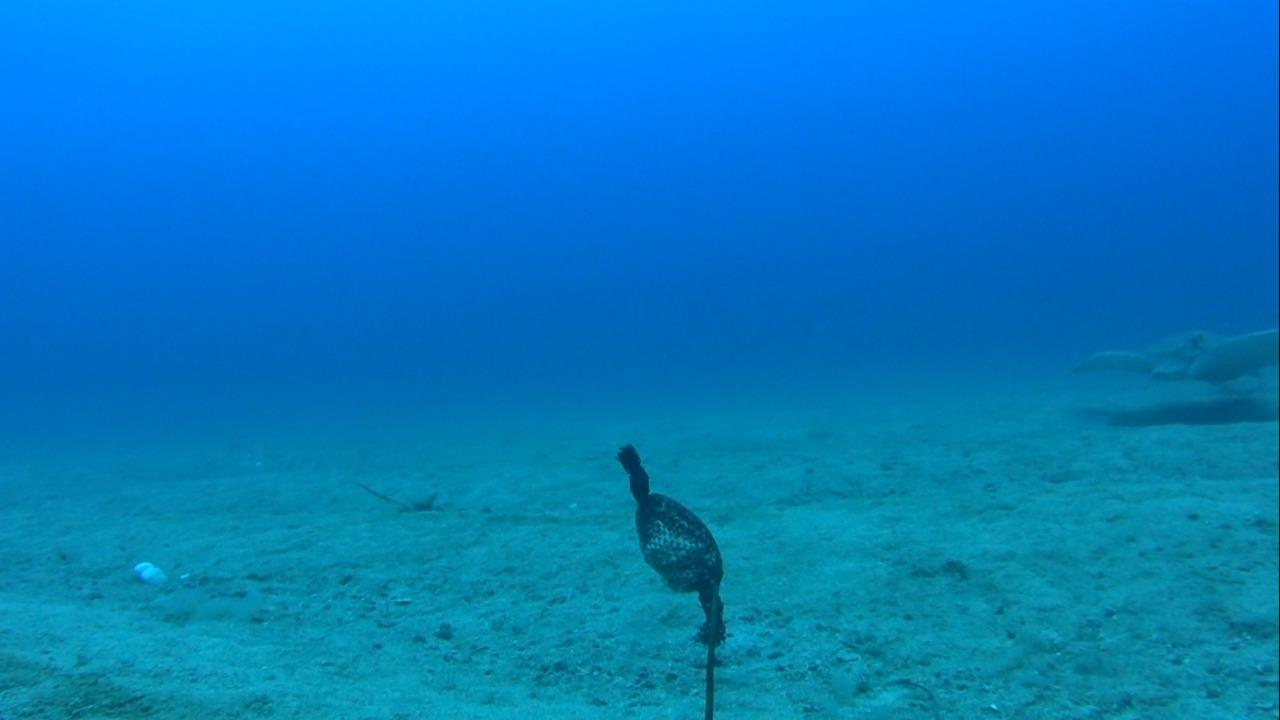myliobatis: (1064, 317, 1279, 400)
